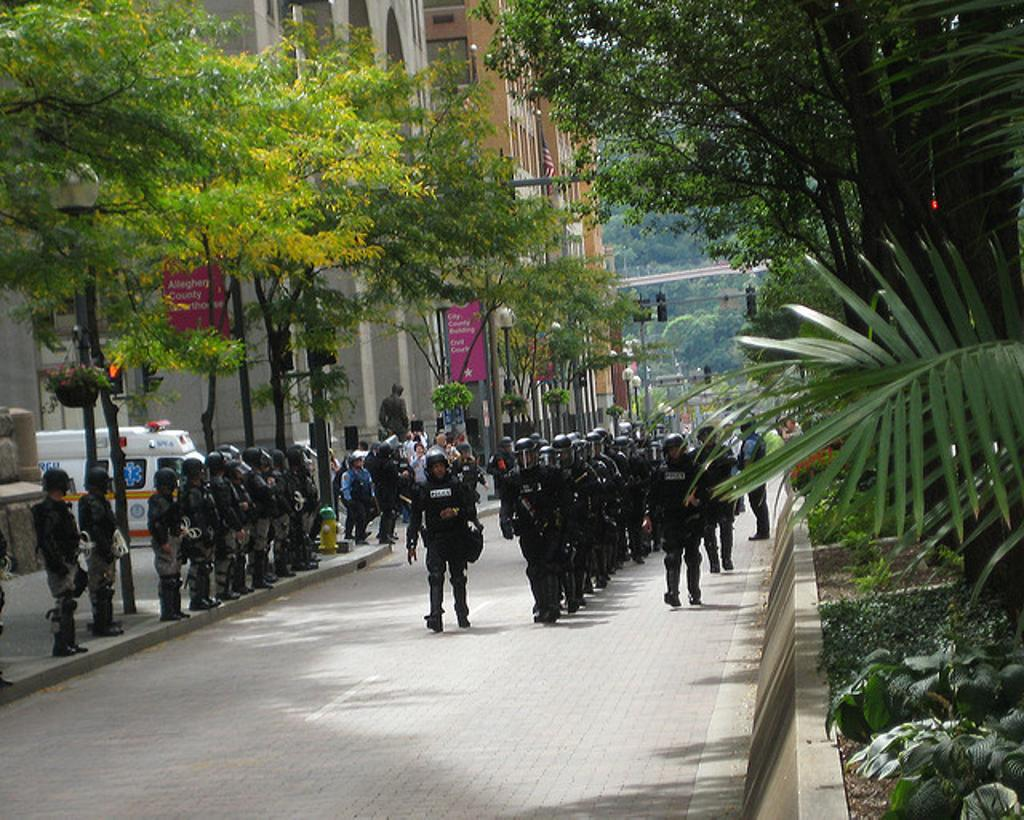face: (587, 441, 600, 456), (434, 462, 446, 477), (556, 450, 568, 465), (616, 446, 628, 458), (669, 446, 680, 459), (542, 458, 552, 471), (521, 455, 531, 466), (703, 438, 713, 449), (352, 457, 362, 466), (463, 450, 471, 460), (416, 447, 423, 456), (504, 444, 511, 452), (437, 436, 443, 445)
